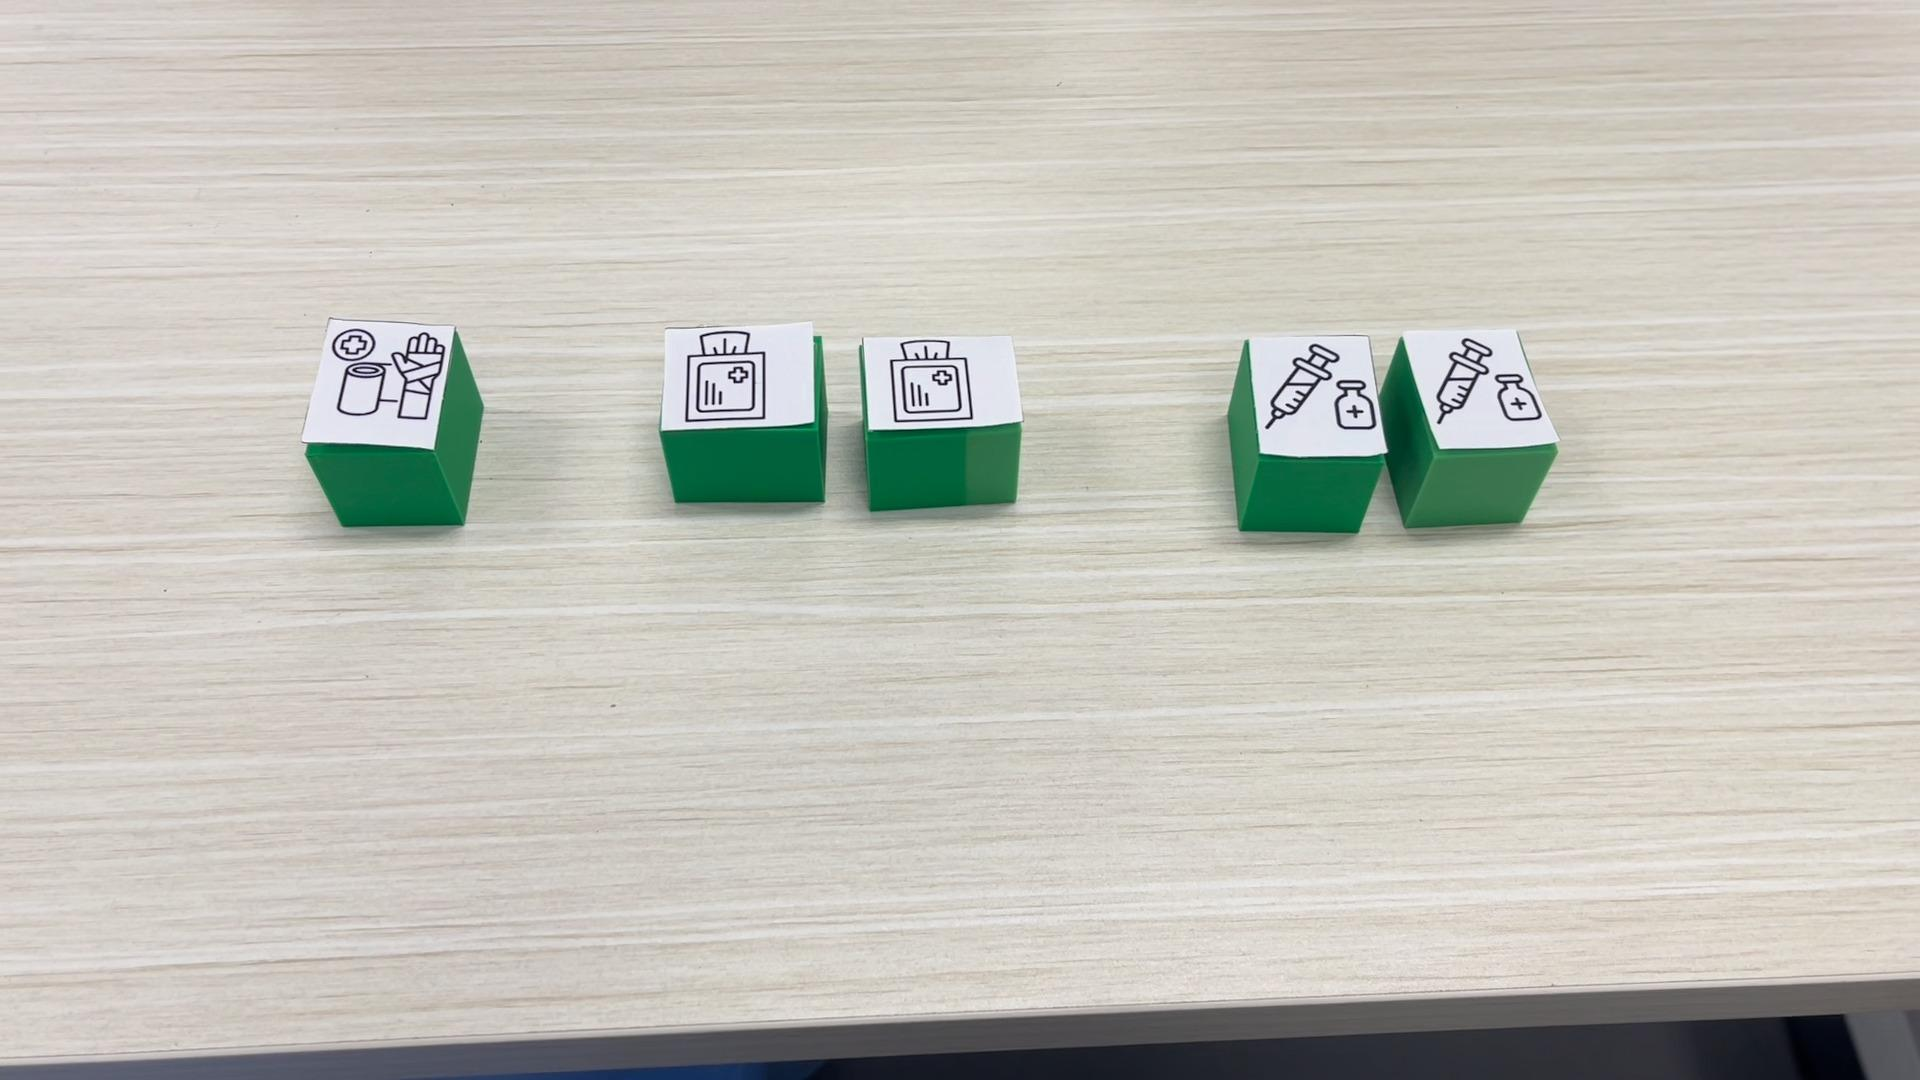Bandages: (301, 322, 483, 527)
Gauze: (855, 324, 1025, 509), (661, 322, 831, 504)
antiseptic cream: (1377, 324, 1561, 529), (1226, 335, 1389, 534)
